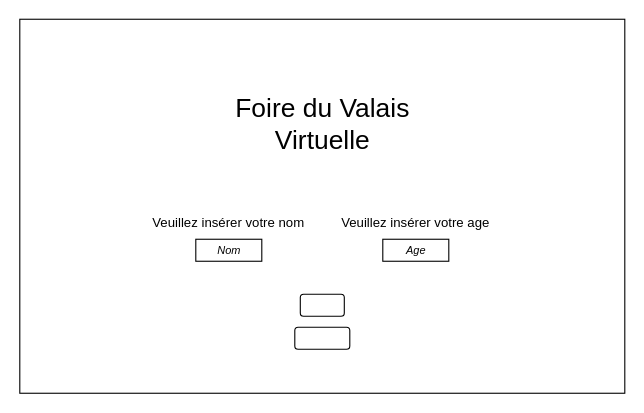
Some shapes in this 644 by 413 pixel diagram are drawn without their labels. Here are the shapes that lost their labels. From the top down, the centre of each, then its label:
the point at 321,304: Valider
the point at 322,337: Règles
